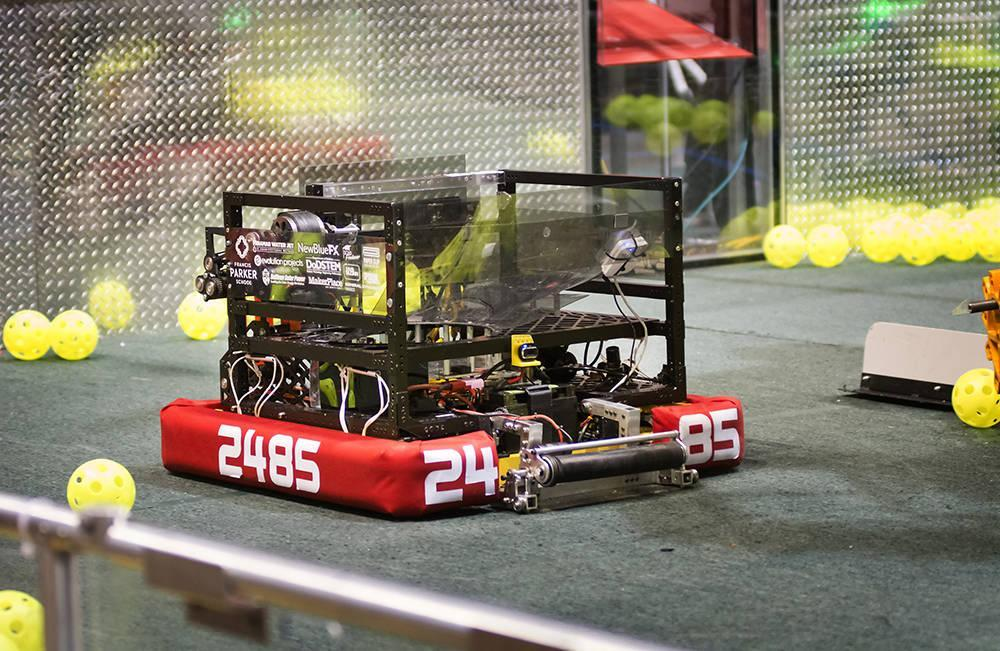robot: (156, 168, 751, 524)
